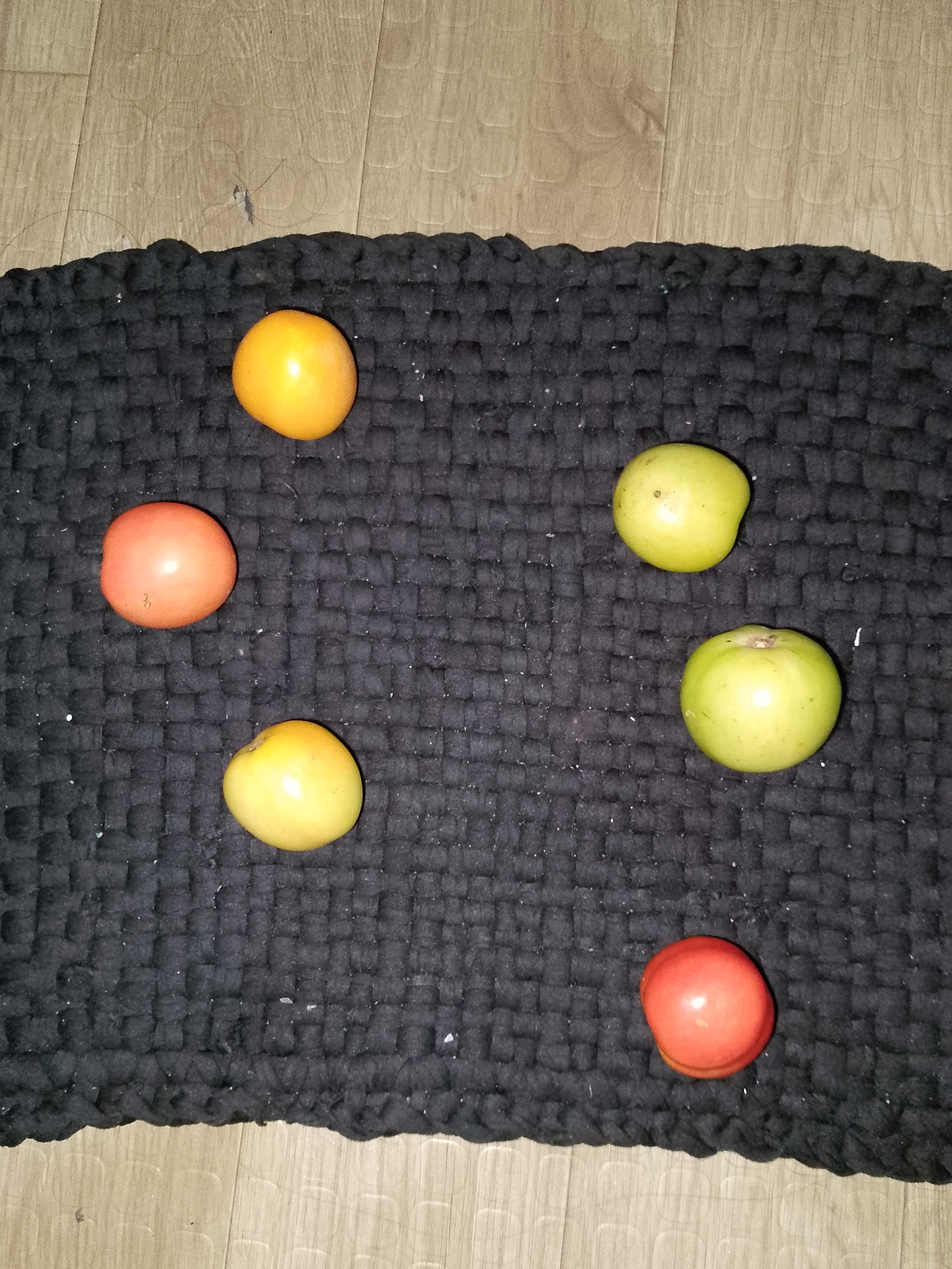Ripe: (600, 916, 825, 1116), (65, 467, 257, 641)
Unripe: (646, 610, 893, 807), (179, 695, 415, 877), (195, 293, 418, 454), (589, 397, 787, 576)
